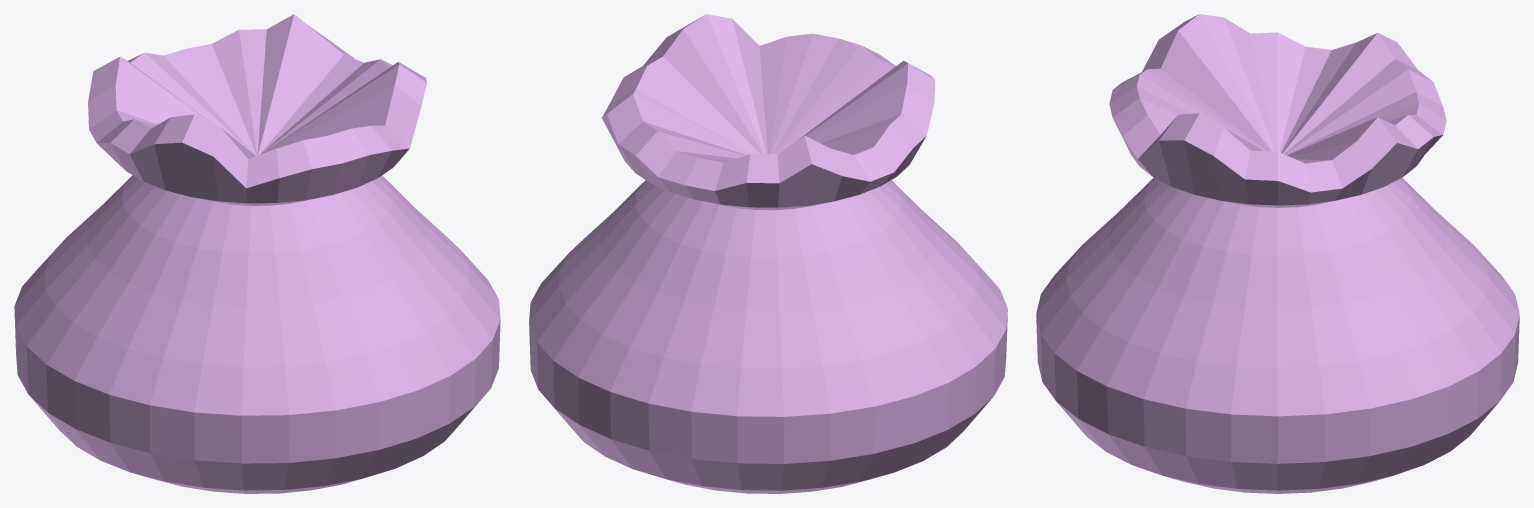
File: seedbeutel 1.fbx
3 views of the same model, side by side, from view 1: azimuth 30°, elevation 25°; view 2: azimuth 150°, elevation 25°; view 3: azimuth 270°, elevation 25° (orthographic).
Parts seen in each view (by area): view 1: Cylinder.001; view 2: Cylinder.001; view 3: Cylinder.001.
Part boxes in pixels (x1,y1,x2,y2): Cylinder.001: (14,14,500,493); Cylinder.001: (529,14,1007,493); Cylinder.001: (1036,14,1519,493).
Bounding box in the file's own units: 246 × 215 × 246.
